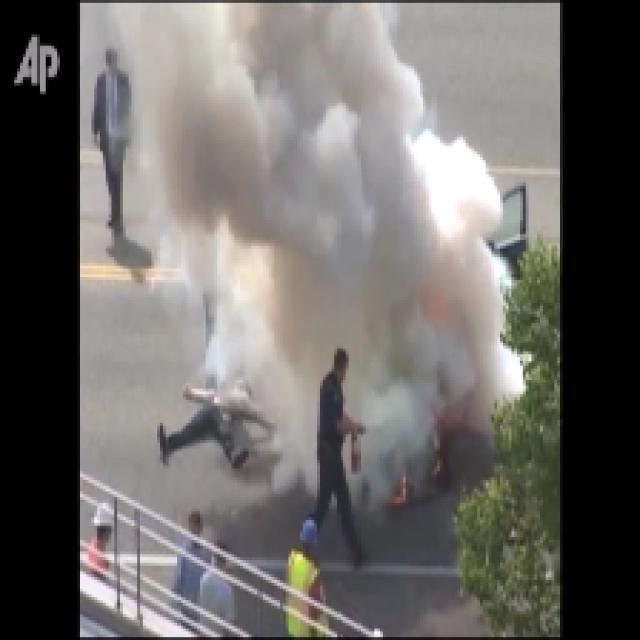Smoke: (254, 108, 426, 303)
